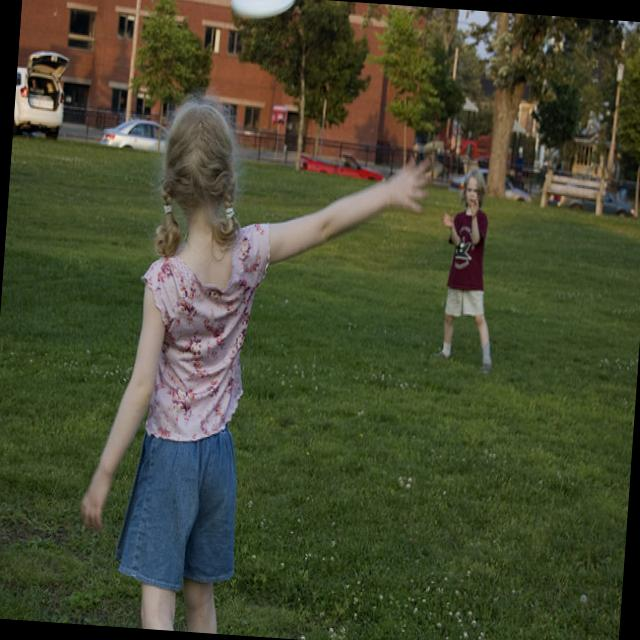Vehicle: (12, 49, 69, 140), (446, 166, 534, 202), (300, 150, 386, 182), (99, 115, 167, 151), (556, 187, 634, 216)
